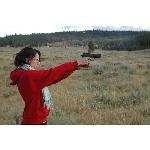Pistol: (80, 52, 102, 66)
